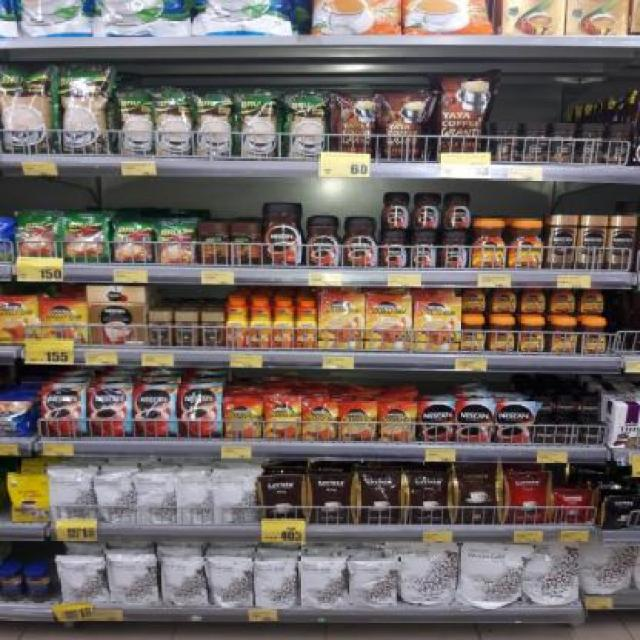Coffee: (262, 203, 304, 266), (367, 295, 411, 350), (41, 383, 87, 435), (415, 298, 460, 350), (178, 385, 222, 438), (321, 294, 364, 348), (134, 386, 177, 436), (41, 298, 87, 344), (89, 386, 131, 436), (342, 218, 380, 268), (304, 217, 341, 268), (507, 220, 542, 269), (471, 219, 506, 267), (1, 296, 36, 344), (456, 400, 493, 444), (495, 404, 534, 444), (224, 398, 262, 439), (378, 403, 417, 442), (264, 398, 301, 439), (339, 401, 376, 441), (549, 216, 576, 270), (609, 216, 636, 269), (579, 217, 606, 269), (419, 402, 455, 441), (302, 401, 338, 439), (380, 192, 412, 230), (249, 297, 271, 348), (438, 231, 469, 267), (272, 299, 294, 349), (412, 193, 442, 229), (379, 231, 409, 267), (410, 230, 438, 268), (443, 193, 471, 229), (296, 298, 316, 348), (550, 319, 578, 353), (489, 318, 516, 352), (520, 318, 546, 353), (581, 319, 607, 353), (229, 298, 246, 348), (461, 318, 485, 353), (147, 311, 170, 347), (174, 312, 198, 346), (201, 313, 224, 345), (550, 289, 576, 313), (579, 291, 604, 314), (492, 290, 518, 312), (462, 289, 486, 311), (522, 289, 544, 313), (583, 426, 605, 443), (580, 397, 600, 415), (556, 396, 575, 413), (560, 425, 577, 443), (535, 427, 554, 442), (536, 398, 552, 414)
